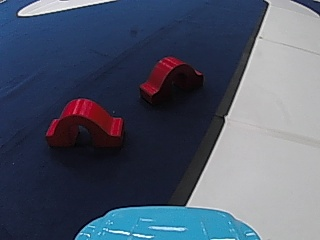bridge: (41, 93, 127, 150), (135, 53, 203, 107)
